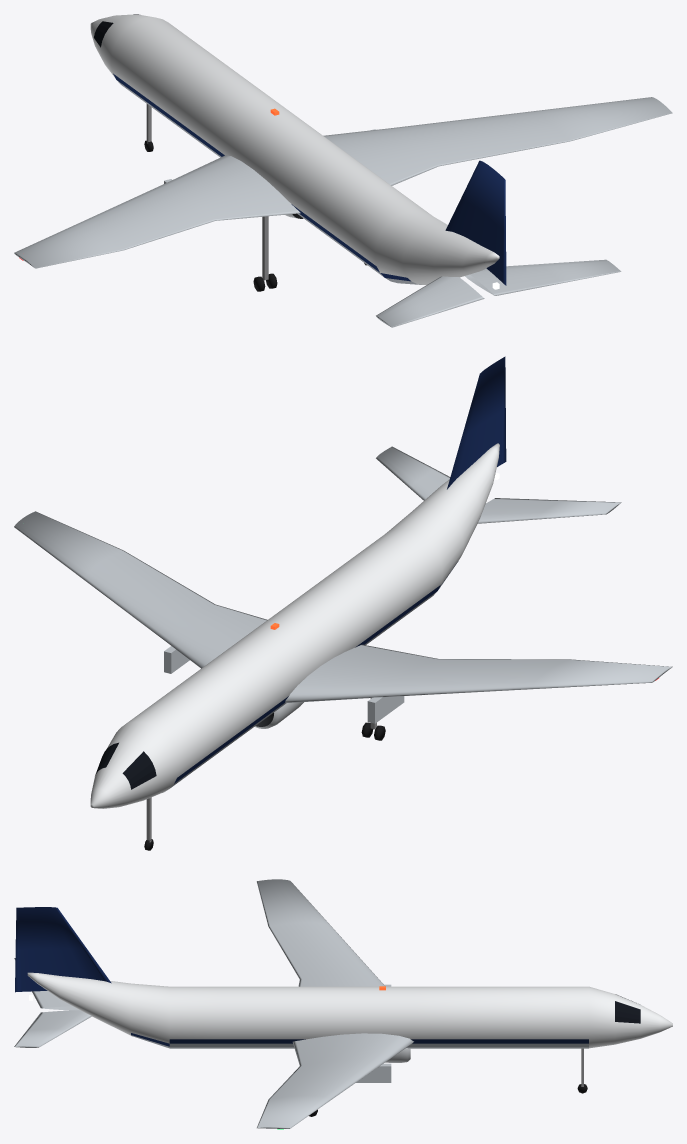
Rendered from fleet_narrow_lod0.glb.
The picture shows the model from 3 angles, top to bottom: view 1: azimuth 30°, elevation 25°; view 2: azimuth 150°, elevation 25°; view 3: azimuth 270°, elevation 25°; orthographic projection. The views are drawn at different scales.
Visible parts, largest first — view 1: fleet_narrow_lod0_white, fleet_narrow_lod0_wing, fleet_narrow_lod0_blue, fleet_narrow_lod0_metal, fleet_narrow_lod0_belly; view 2: fleet_narrow_lod0_white, fleet_narrow_lod0_wing, fleet_narrow_lod0_blue, fleet_narrow_lod0_glass; view 3: fleet_narrow_lod0_white, fleet_narrow_lod0_wing, fleet_narrow_lod0_blue, fleet_narrow_lod0_belly, fleet_narrow_lod0_glass.
Part boxes in pixels (x1,y1,x2,y2): fleet_narrow_lod0_white: (90,14,499,284); fleet_narrow_lod0_wing: (14,97,672,327); fleet_narrow_lod0_blue: (113,73,506,285); fleet_narrow_lod0_metal: (146,104,268,280); fleet_narrow_lod0_belly: (117,80,421,284); fleet_narrow_lod0_white: (90,443,499,808); fleet_narrow_lod0_wing: (14,446,672,723); fleet_narrow_lod0_blue: (174,356,506,783); fleet_narrow_lod0_glass: (95,742,156,789); fleet_narrow_lod0_white: (27,972,672,1048); fleet_narrow_lod0_wing: (14,879,413,1128); fleet_narrow_lod0_blue: (15,907,588,1046); fleet_narrow_lod0_belly: (131,1035,588,1048); fleet_narrow_lod0_glass: (615,994,640,1023).
Size of the model in its own units: 35.8 by 12.51 by 40.35.
